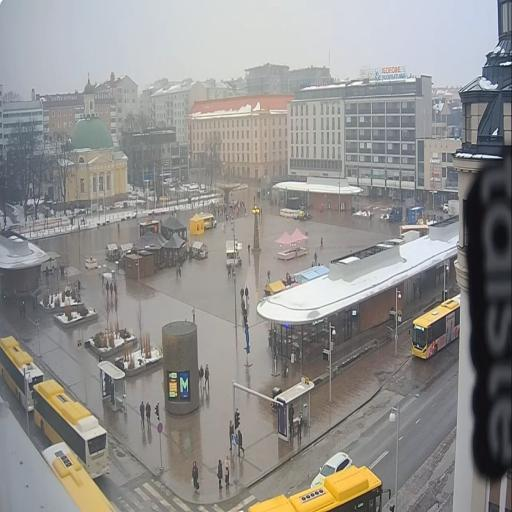Bus: (33, 380, 108, 477), (249, 466, 383, 511), (42, 443, 115, 511), (0, 336, 44, 410), (412, 294, 460, 359)
